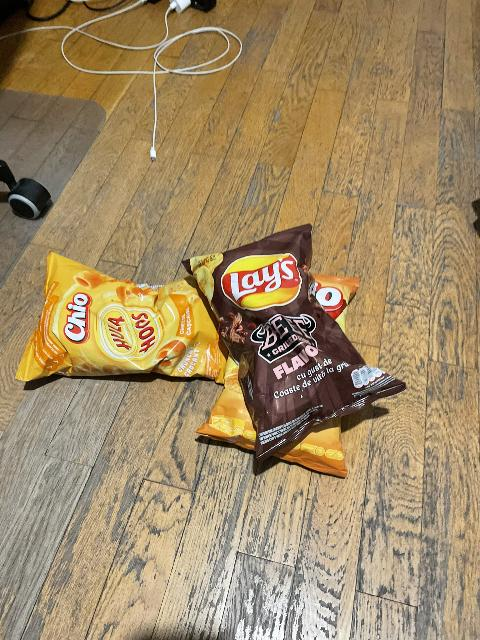Chio Cascaval 125g: (195, 273, 363, 479)
Chio Hula Hoops Cheese 70g: (17, 251, 225, 378)
Lays Beef Grilled Ribs 125g: (183, 224, 405, 473)
